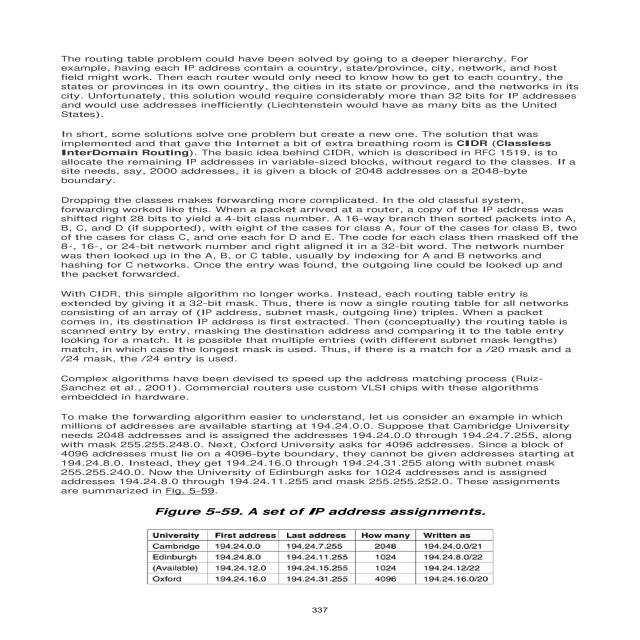diagram: (132, 496, 518, 608)
